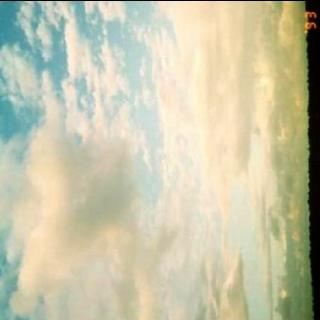Stratocumulus: (0, 0, 296, 320)
